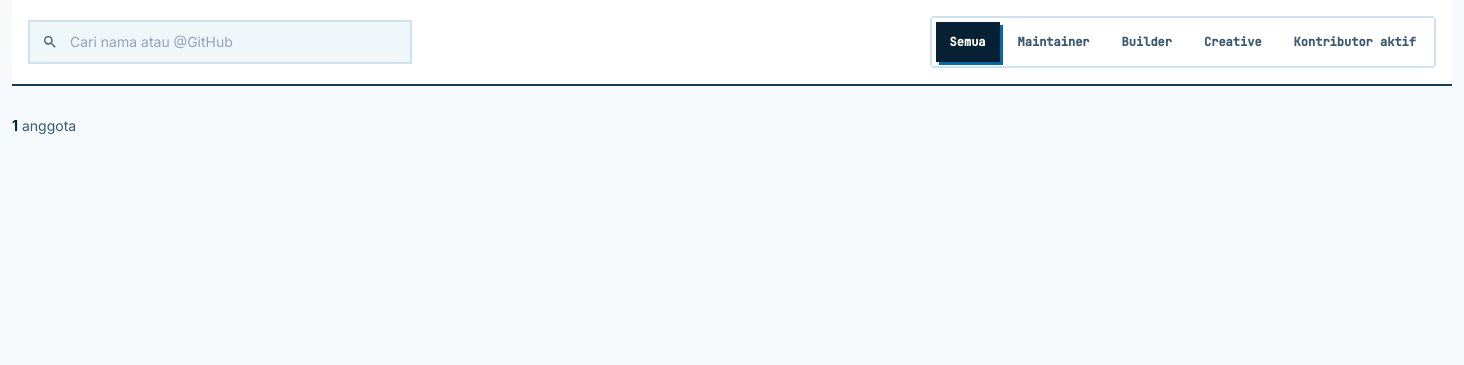
Test: public member directory v3 › filters members through the real search control
Type "tidak ada" into the search field at [220, 42], box left=28, top=20, right=412, bottom=64
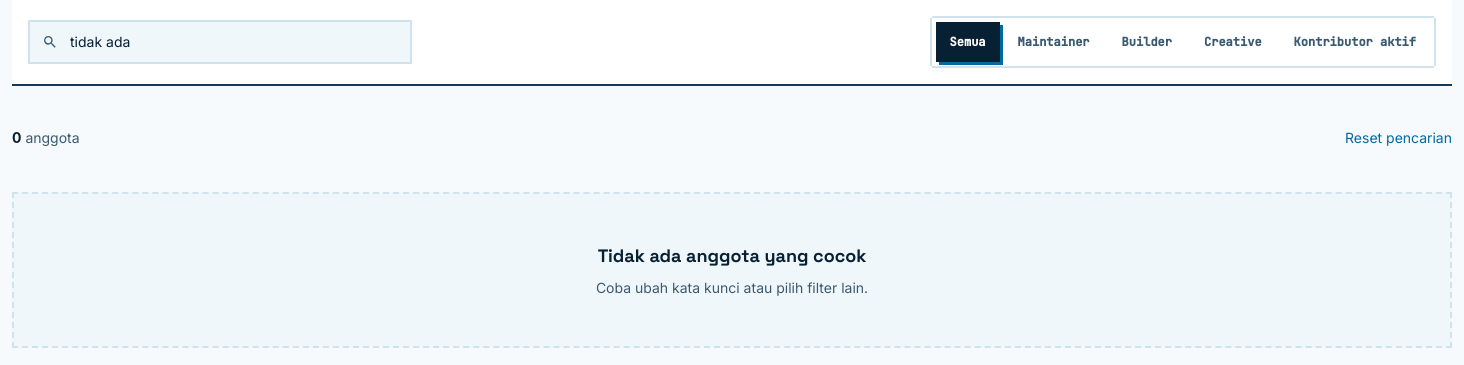
Result: the heading "Tidak ada anggota yang cocok" is shown at left=598, top=244, right=866, bottom=267
